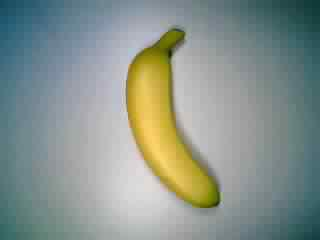banana: (121, 26, 231, 208)
